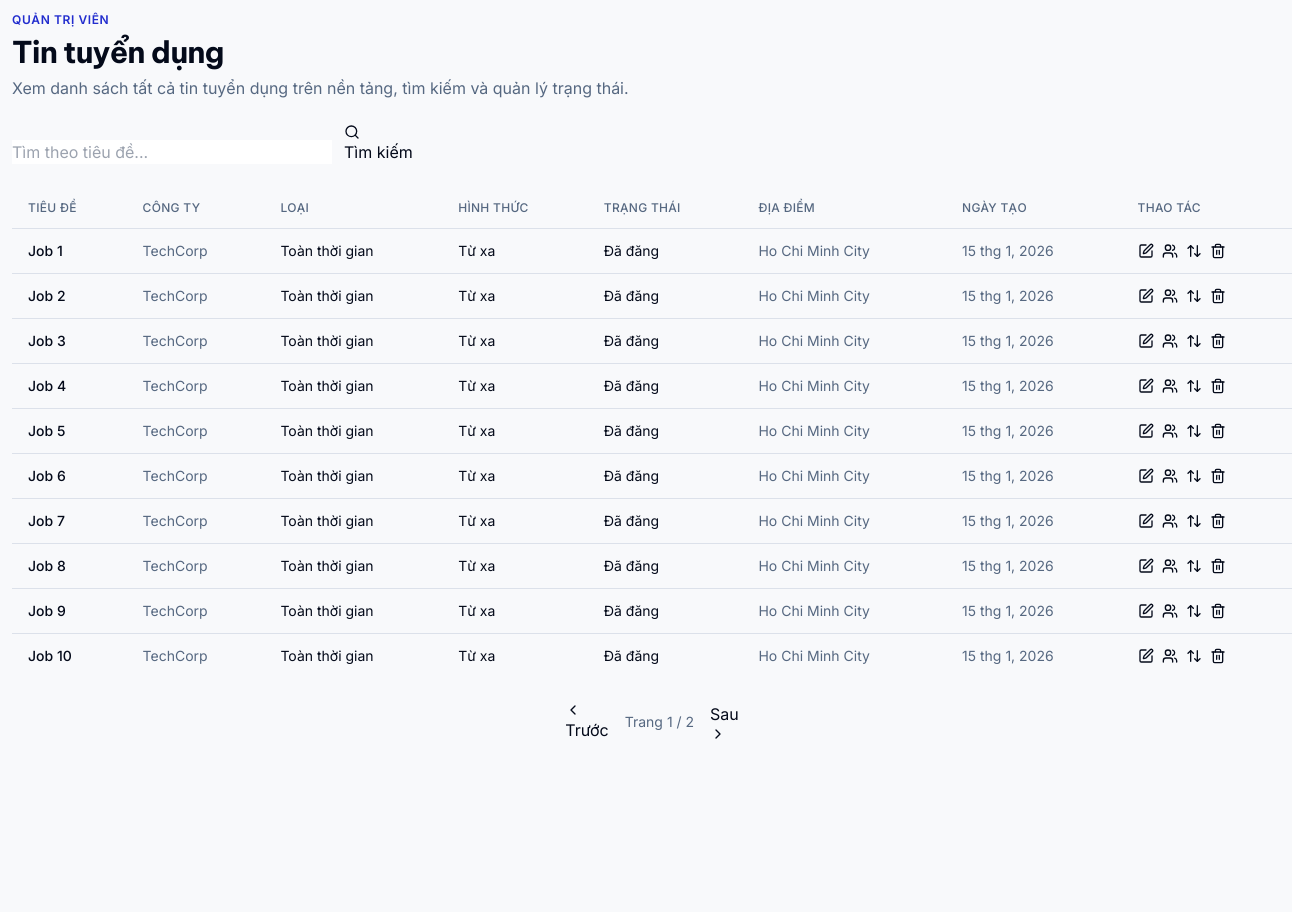
Scenario: AdminJobsPage › handles pagination
The width and height of the screenshot is (1292, 912).
expect the text "Job 1" is shown: met, box [28, 242, 63, 259]
expect the text "Trang 1 / 2" is shown: met, box [625, 713, 694, 730]
Step 1. Click the button with aria-label "Trang sau" → (724, 722), box [710, 702, 739, 742]
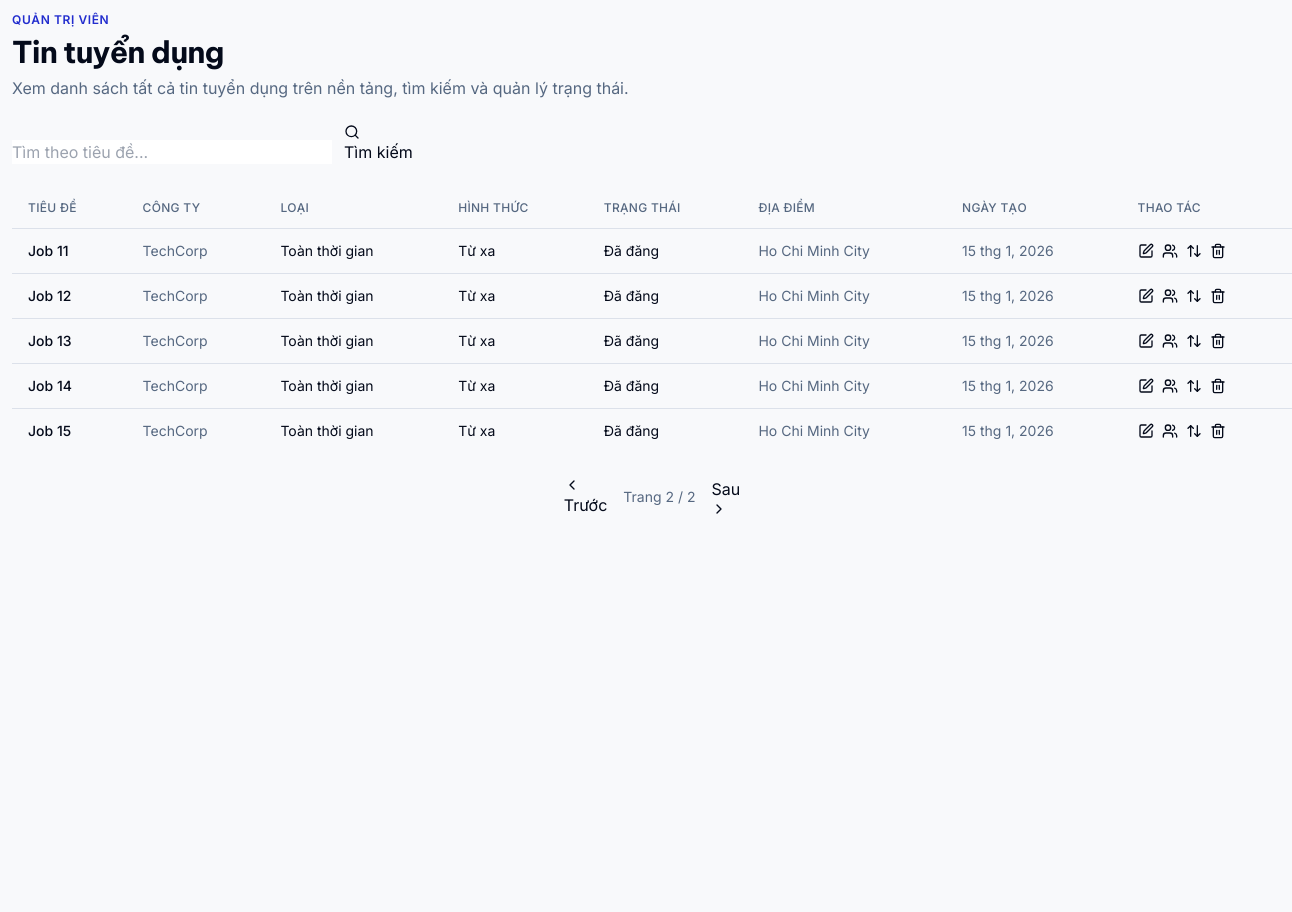
expect the text "Job 11" is shown: met, box [28, 242, 68, 259]
expect the text "Trang 2 / 2" is shown: met, box [623, 488, 696, 505]
